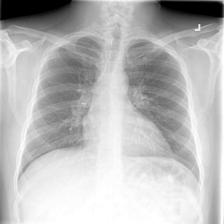normal: (13, 28, 204, 194)
